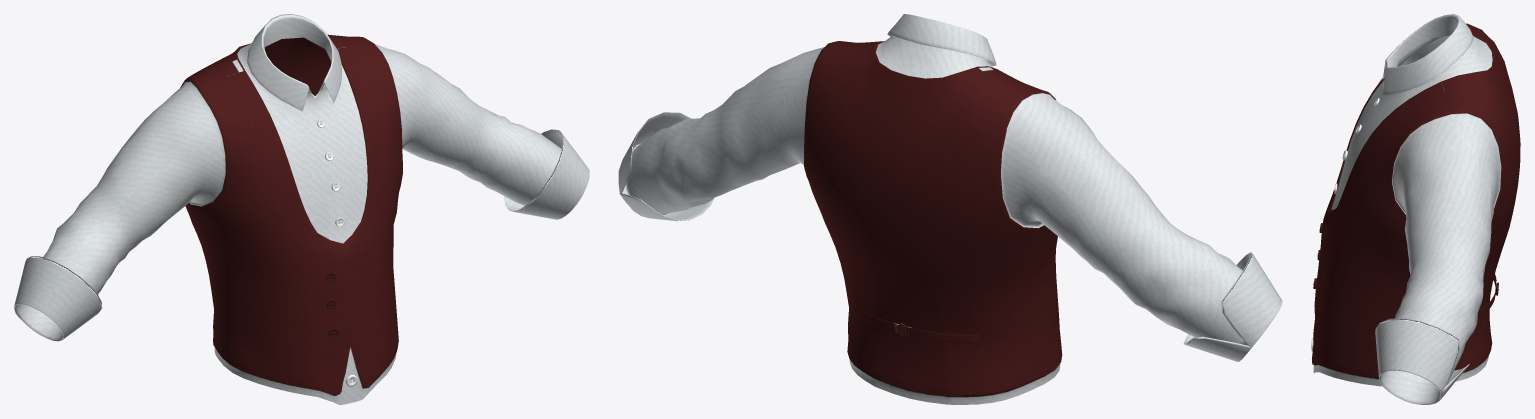
File: a_fashionable_waistcoat.glb
3 renders of one model, left to right at view 1: azimuth 30°, elevation 25°; view 2: azimuth 150°, elevation 25°; view 3: azimuth 270°, elevation 25°, orthographic. The views are drawn at different scales.
Visible parts, largest first — view 1: waistcoat_low; view 2: waistcoat_low, backBuckle_low; view 3: waistcoat_low, backBuckle_low.
Part boxes in pixels (bbox=[...]): waistcoat_low: bbox=[14, 14, 589, 404]; waistcoat_low: bbox=[618, 14, 1282, 404]; backBuckle_low: bbox=[852, 302, 980, 342]; waistcoat_low: bbox=[1312, 14, 1520, 404]; backBuckle_low: bbox=[1477, 274, 1498, 318].
Bounding box in the file's own units: 2 × 1.14 × 0.619.
Materials: 1 (1 with a texture image).
